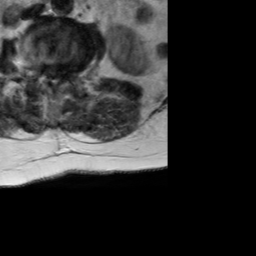CCS_severe_stenosis: (50, 61, 57, 88)
LFS_severe_stenosis: (64, 61, 72, 80)
LLS_severe_stenosis: (57, 62, 64, 82)
RFS_severe_stenosis: (36, 60, 43, 77)
RLS_severe_stenosis: (43, 61, 51, 81)
